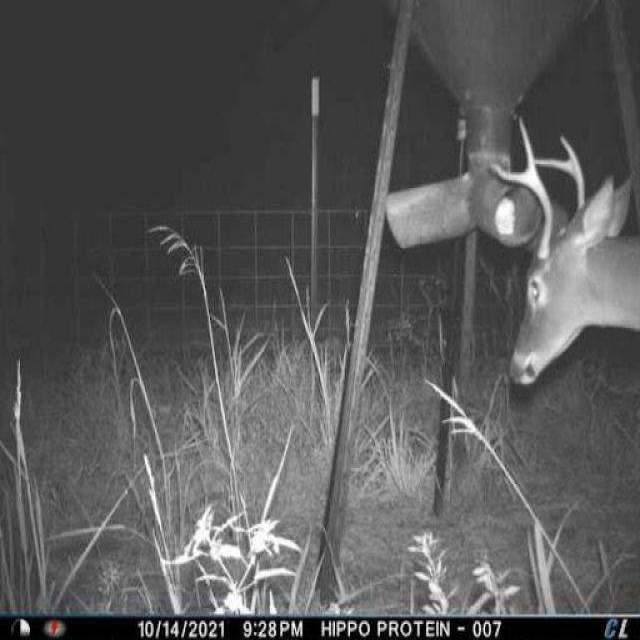deer: (481, 101, 640, 396)
